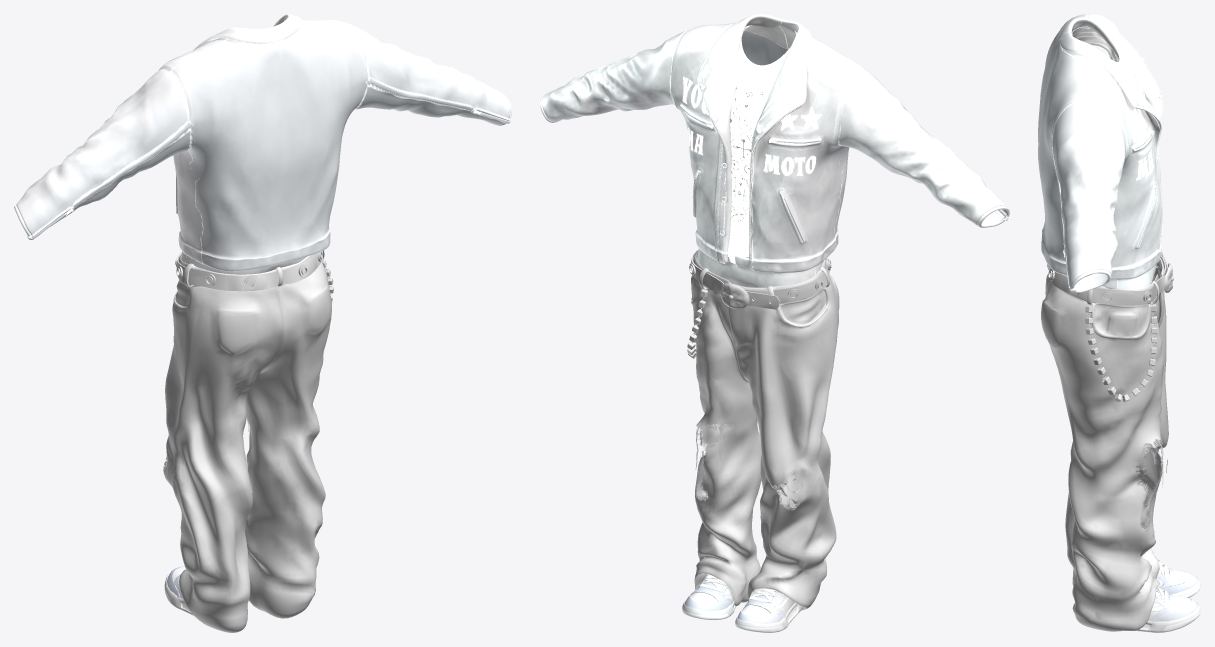
3 views of the same model, side by side, from view 1: azimuth 30°, elevation 25°; view 2: azimuth 150°, elevation 25°; view 3: azimuth 270°, elevation 25° (orthographic). The views are drawn at different scales.
Parts seen in each view (by area): view 1: JACKET AD, PANTS AD; view 2: JACKET AD, PANTS AD, SHIRT AD, shoes 3_2_Material #4_0, Object001_Material #4_0, jacket add; view 3: PANTS AD, JACKET AD, Object001_Material #4_0, shoes 3_2_Material #4_0, SHIRT AD, jacket add.
Boxes of the visible parts, box(x1,y1,x2,y2) form: JACKET AD: box(14, 14, 511, 271); PANTS AD: box(163, 250, 333, 632); JACKET AD: box(540, 14, 1009, 273); PANTS AD: box(687, 249, 839, 610); SHIRT AD: box(698, 25, 823, 287); shoes 3_2_Material #4_0: box(735, 588, 804, 632); Object001_Material #4_0: box(682, 573, 736, 619); jacket add: box(694, 77, 803, 260); PANTS AD: box(1041, 252, 1173, 631); JACKET AD: box(1038, 14, 1162, 292); Object001_Material #4_0: box(1135, 587, 1200, 632); shoes 3_2_Material #4_0: box(1156, 559, 1200, 597); SHIRT AD: box(1071, 26, 1156, 289); jacket add: box(1063, 49, 1163, 258).
Size of the model in its own units: 1.35 by 1.6 by 0.4037.
5 materials, 1 textured.
